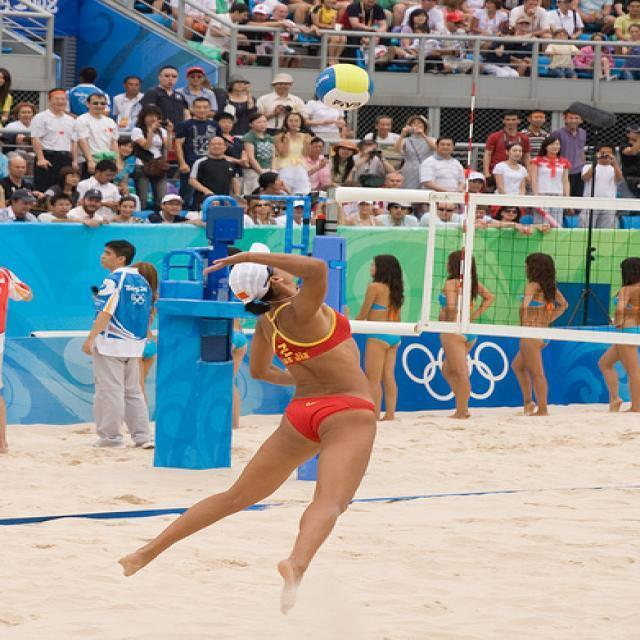volleyball: (312, 63, 374, 110)
